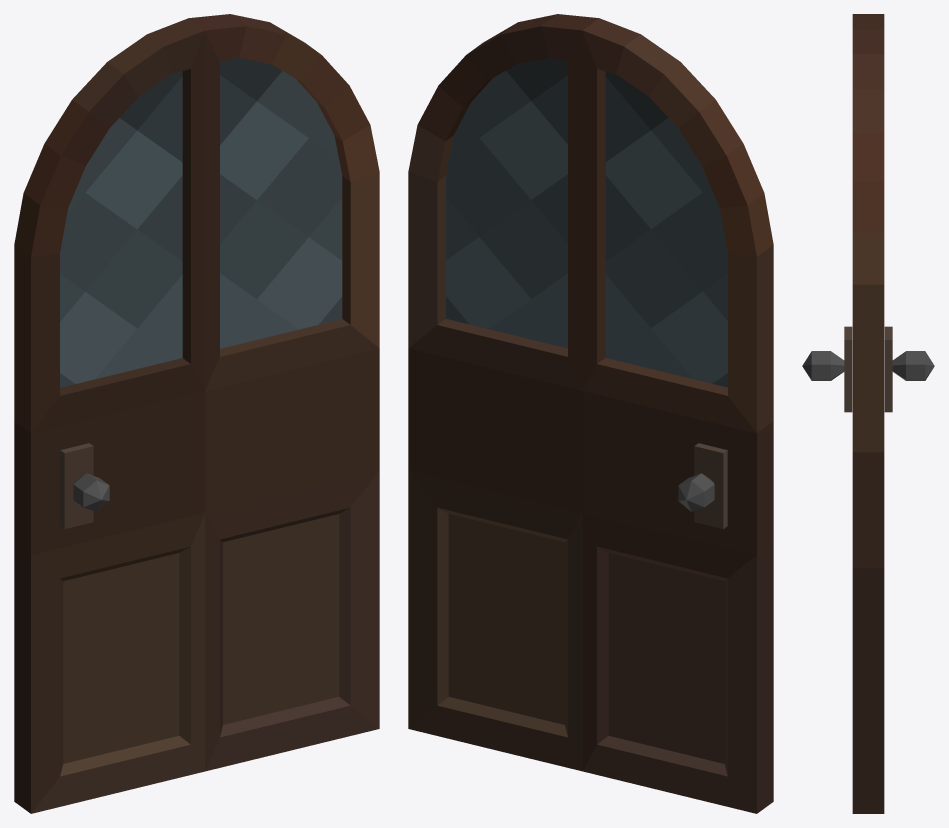
Rendered from Prop_DoorArchA.fbx.
The picture shows the model from 3 angles, left to right: view 1: azimuth 30°, elevation 25°; view 2: azimuth 150°, elevation 25°; view 3: azimuth 270°, elevation 25°; orthographic projection. The views are drawn at different scales.
Visible parts, largest first — view 1: Prop_DoorArchA; view 2: Prop_DoorArchA; view 3: Prop_DoorArchA.
Boxes of the visible parts, x1,y1,x2,y2 form: Prop_DoorArchA: (14,14,379,813); Prop_DoorArchA: (408,14,773,813); Prop_DoorArchA: (802,14,934,813).
Size of the model in its own units: 120 by 244 by 41.62.
